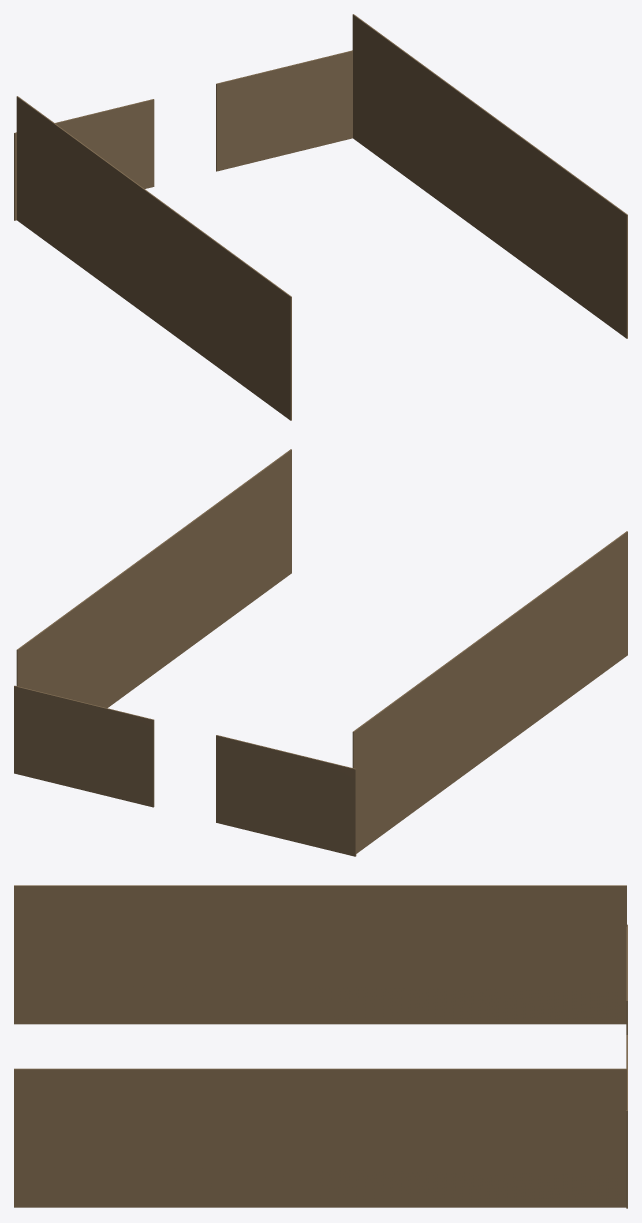
Rendered from Furniture_TallLining62.fbx.
The picture shows the model from 3 angles, top to bottom: view 1: azimuth 30°, elevation 25°; view 2: azimuth 150°, elevation 25°; view 3: azimuth 270°, elevation 25°; orthographic projection. The views are drawn at different scales.
Parts seen in each view (by area): view 1: Furniture_TallLining62; view 2: Furniture_TallLining62; view 3: Furniture_TallLining62.
Boxes of the visible parts, bbox=[...] form: Furniture_TallLining62: bbox=[14, 14, 627, 420]; Furniture_TallLining62: bbox=[14, 449, 627, 856]; Furniture_TallLining62: bbox=[14, 885, 627, 1208].
Bounding box in the file's own units: 981 × 340 × 1366.
